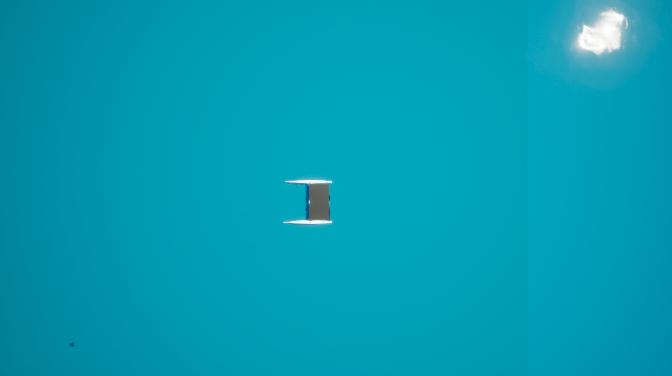boat: (282, 177, 338, 229)
drone: (68, 340, 77, 349)
land_base: (309, 185, 329, 220)
light_reflex: (548, 1, 658, 74)
